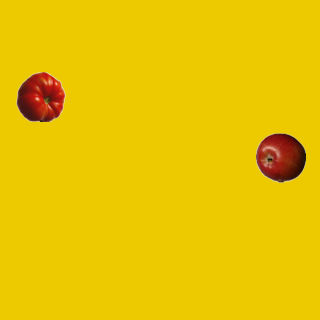Apple Braeburn: (255, 132, 305, 182)
Tomato 3: (15, 71, 65, 121)
